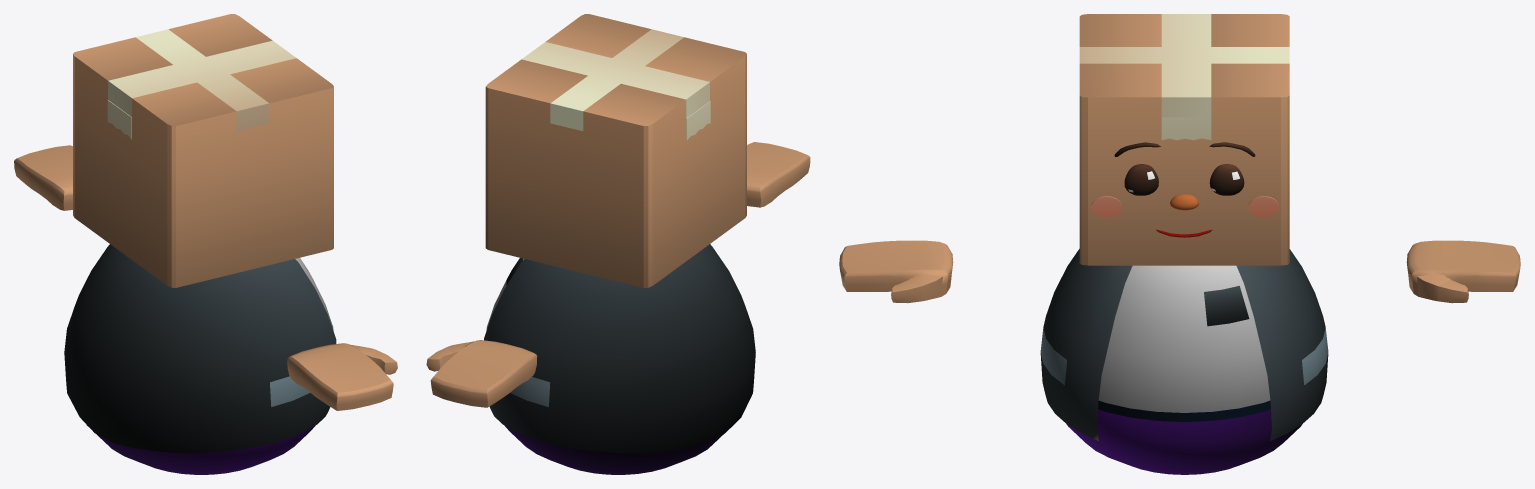
File: LaChicaCaja.fbx
3 views of the same model, side by side, from view 1: azimuth 30°, elevation 25°; view 2: azimuth 150°, elevation 25°; view 3: azimuth 270°, elevation 25° (orthographic). The views are drawn at different scales.
Parts seen in each view (by area): view 1: Cabeza, l_hand_Chico, r_hand_Chico; view 2: Cabeza, r_hand_Chico, l_hand_Chico; view 3: Cabeza, r_hand_Chico, l_hand_Chico.
Part boxes in pixels (x1=…): Cabeza: x1=64, y1=14, x2=336, y2=474; l_hand_Chico: x1=287, y1=343, x2=397, y2=410; r_hand_Chico: x1=14, y1=145, x2=72, y2=210; Cabeza: x1=484, y1=14, x2=755, y2=474; r_hand_Chico: x1=426, y1=340, x2=537, y2=407; l_hand_Chico: x1=747, y1=142, x2=810, y2=207; Cabeza: x1=1040, y1=14, x2=1328, y2=474; r_hand_Chico: x1=1406, y1=240, x2=1520, y2=303; l_hand_Chico: x1=839, y1=240, x2=953, y2=303.
Bounding box in the file's own units: 22.76 × 34.93 × 54.51.
